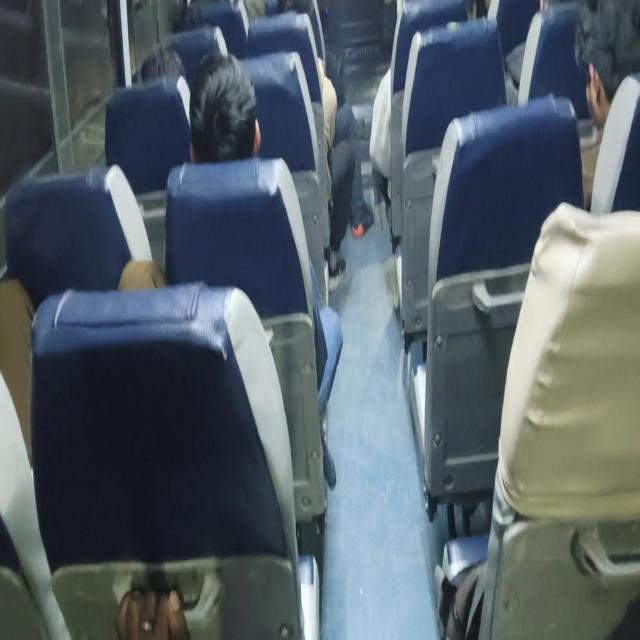person: (188, 51, 343, 490), (246, 6, 357, 292), (574, 0, 640, 212), (188, 51, 262, 163), (114, 582, 191, 638), (139, 42, 186, 85)
